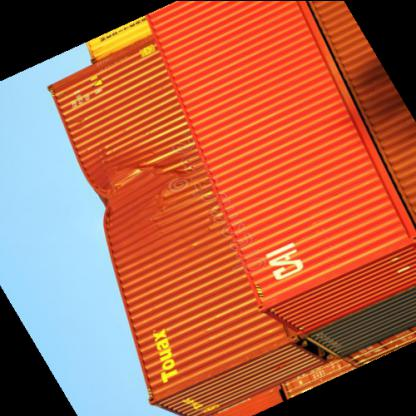Damage: (101, 147, 171, 225)
